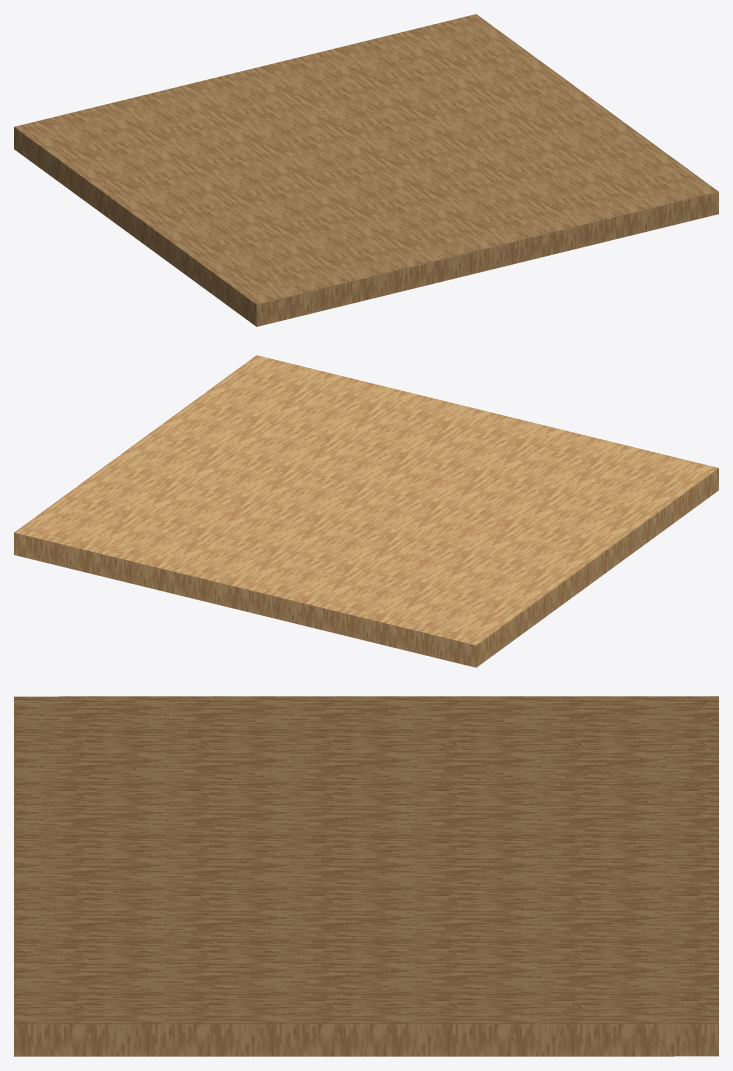
The model's file is Floor_3da34ea5.obj.
The picture shows the model from 3 angles, top to bottom: view 1: azimuth 30°, elevation 25°; view 2: azimuth 150°, elevation 25°; view 3: azimuth 270°, elevation 25°; orthographic projection. The views are drawn at different scales.
Parts seen in each view (by area): view 1: mesh_935442f5; view 2: mesh_935442f5; view 3: mesh_935442f5.
Boxes of the visible parts, x1,y1,x2,y2 form: mesh_935442f5: [14, 14, 718, 326]; mesh_935442f5: [14, 355, 718, 667]; mesh_935442f5: [14, 696, 718, 1056].
Size of the model in its own units: 6.24 by 0.29 by 5.67.
